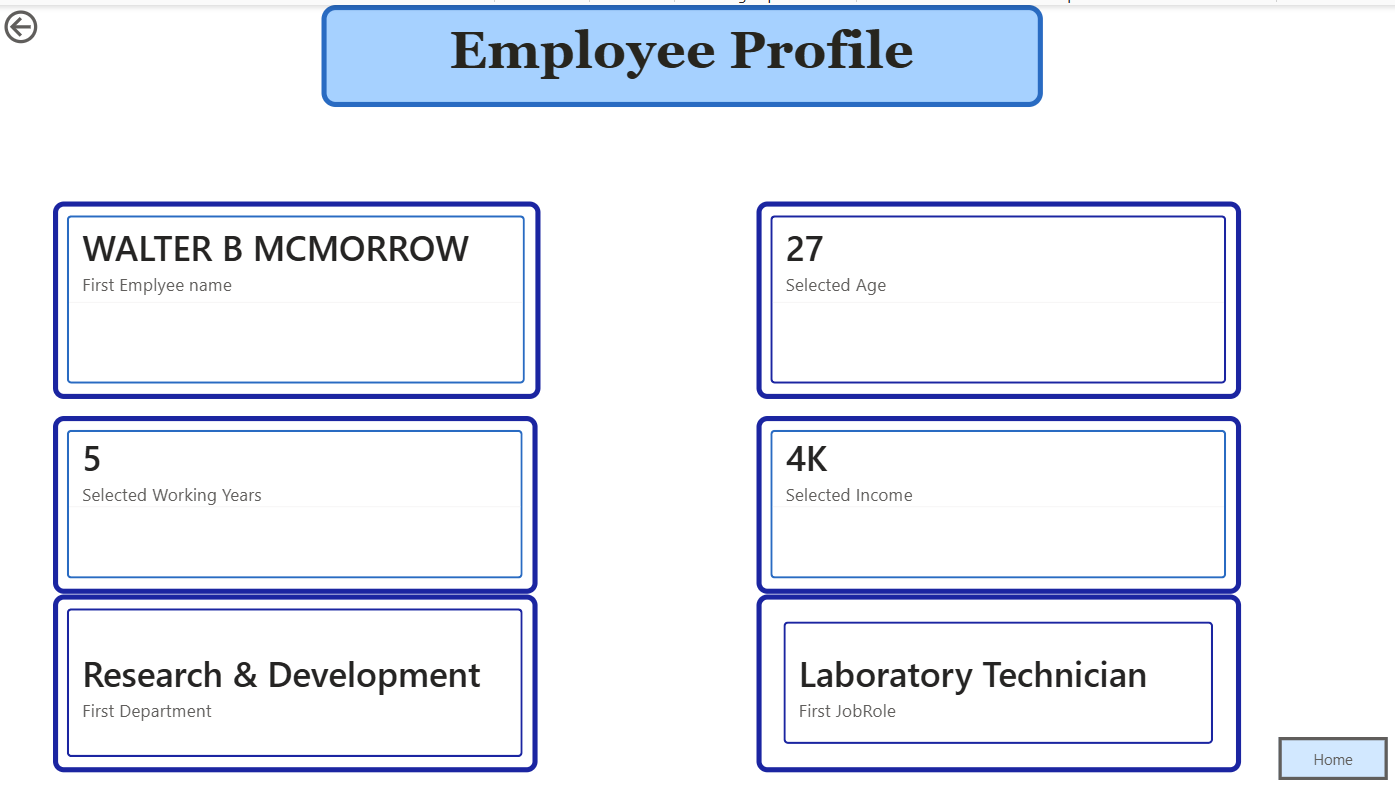

This screenshot's page, from the dashboard's own definition file:
{"tool":"powerbi","page":{"name":"Employee Profile","canvas":[1280,720],"ordinal":4},"visuals":[{"type":"textbox","title":"Employee Profile","box":[294.4,0,659.7,93.1],"z":0},{"type":"cardVisual","fields":{"Data":["HR Analytics Data.Selected Age"]},"box":[693.1,179.2,443.1,180.6],"z":1000},{"type":"cardVisual","fields":{"Data":["HR Analytics Data.Selected Income"]},"box":[693.1,376.4,443.1,162.5],"z":2000},{"type":"cardVisual","fields":{"Data":["HR Analytics Data.Selected Working Years"]},"box":[50,376.4,443.1,162.5],"z":3000},{"type":"actionButton","box":[1170.4,669,100,39.4],"z":4000},{"type":"actionButton","box":[0,0,100,40],"z":5000},{"type":"cardVisual","fields":{"Data":["Min(HR Analytics Data.Department)"]},"box":[50,538.9,443.1,162.5],"z":6000},{"type":"cardVisual","fields":{"Data":["Min(HR Analytics Data.JobRole)"]},"box":[693.1,538.9,443.1,162.5],"z":7000},{"type":"cardVisual","fields":{"Data":["Min(HR employee data.Emplyee name)"]},"box":[50,179.2,445.8,180.6],"z":8000}]}

Visuals, with their boxes in screenshot pixels (x1, y1, x2, y2), scaled from the page's 1280x720 canvas onto the 1395x790 screenshot:
"Employee Profile" textbox: box(321, 0, 1040, 102)
cardVisual - HR Analytics Data.Selected Age: box(755, 197, 1238, 395)
cardVisual - HR Analytics Data.Selected Income: box(755, 413, 1238, 591)
cardVisual - HR Analytics Data.Selected Working Years: box(54, 413, 537, 591)
actionButton: box(1276, 734, 1385, 777)
actionButton: box(0, 0, 109, 44)
cardVisual - Min(HR Analytics Data.Department): box(54, 591, 537, 770)
cardVisual - Min(HR Analytics Data.JobRole): box(755, 591, 1238, 770)
cardVisual - Min(HR employee data.Emplyee name): box(54, 197, 540, 395)
